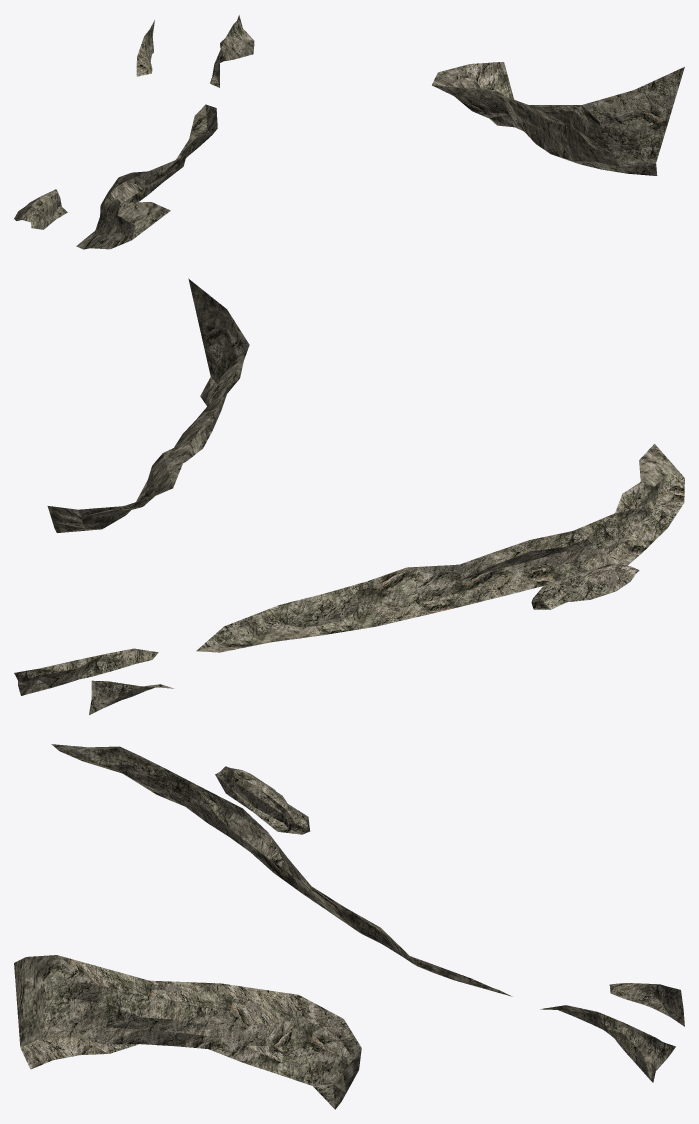
The model's file is ce_ground06a.obj.
3 renders of one model, top to bottom at view 1: azimuth 30°, elevation 25°; view 2: azimuth 150°, elevation 25°; view 3: azimuth 270°, elevation 25°, orthographic. The views are drawn at different scales.
Parts seen in each view (by area): view 1: CE_ground06A; view 2: CE_ground06A; view 3: CE_ground06A.
Part boxes in pixels (box(x1,y1,x2,y2)): CE_ground06A: box(14, 15, 684, 249); CE_ground06A: box(14, 278, 684, 715); CE_ground06A: box(14, 744, 684, 1109).
Size of the model in its own units: 172 by 51.47 by 167.
Materials: 1 (1 with a texture image).
